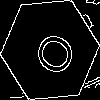O: (25, 25, 78, 80)
